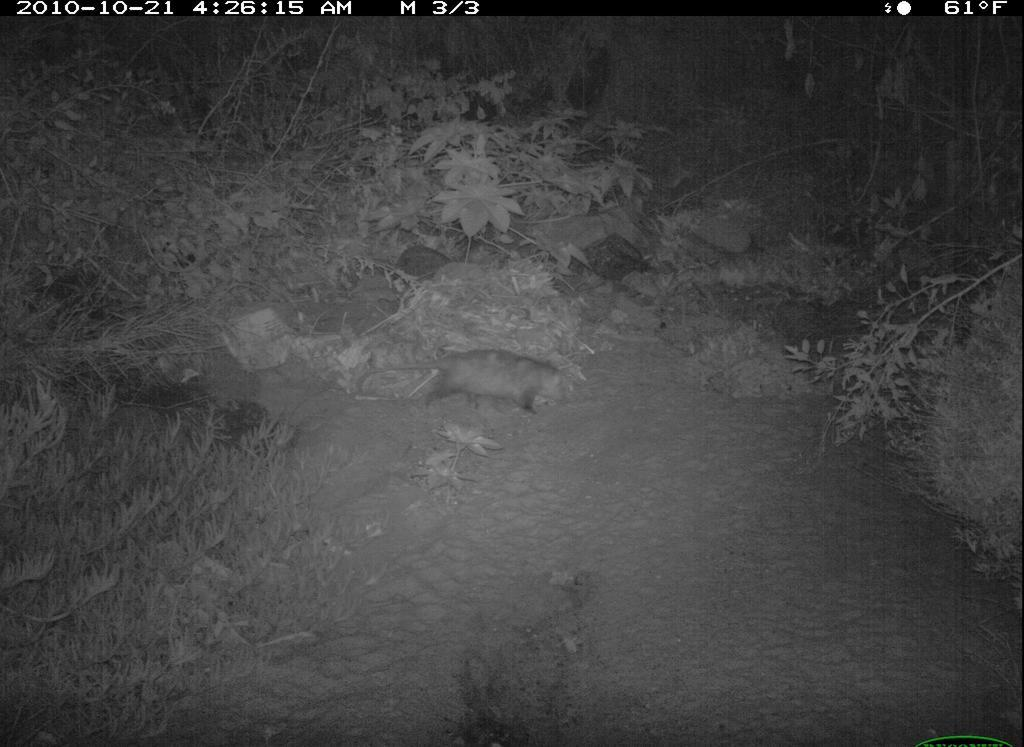opossum: (351, 344, 596, 429)
